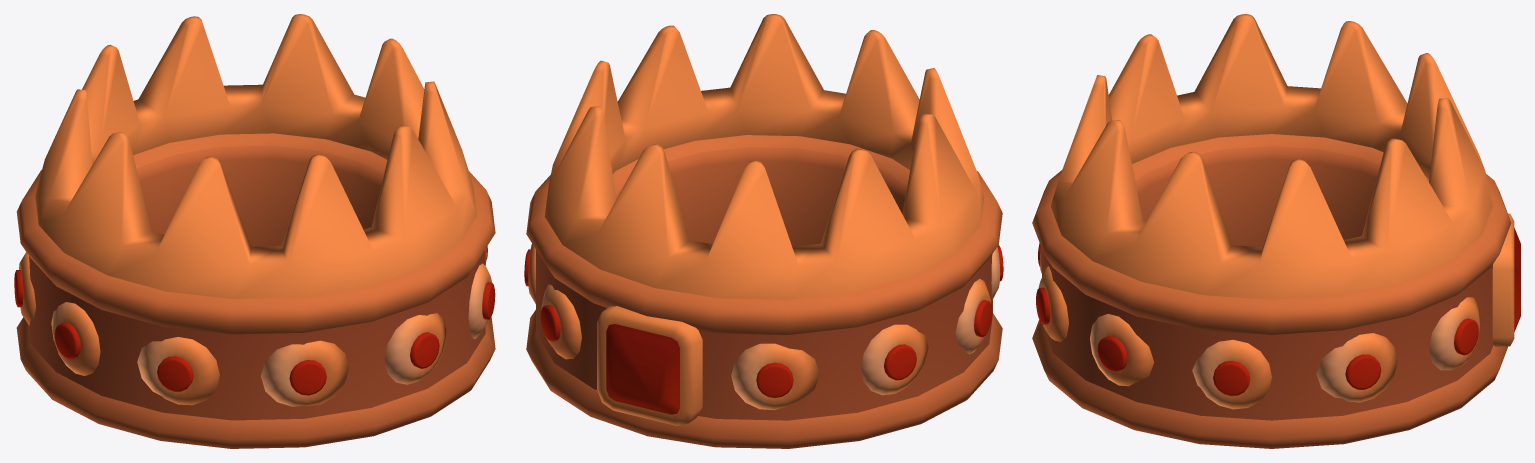
The model's file is Crown_V2_0.fbx.
3 renders of one model, left to right at view 1: azimuth 30°, elevation 25°; view 2: azimuth 150°, elevation 25°; view 3: azimuth 270°, elevation 25°, orthographic.
Visible parts, largest first — view 1: Crown_V2_0; view 2: Crown_V2_0; view 3: Crown_V2_0.
Part boxes in pixels (x1=…): Crown_V2_0: x1=14, y1=14, x2=495, y2=448; Crown_V2_0: x1=524, y1=14, x2=1003, y2=448; Crown_V2_0: x1=1032, y1=14, x2=1520, y2=448.
Size of the model in its own units: 0.4032 by 0.2473 by 0.4107.
